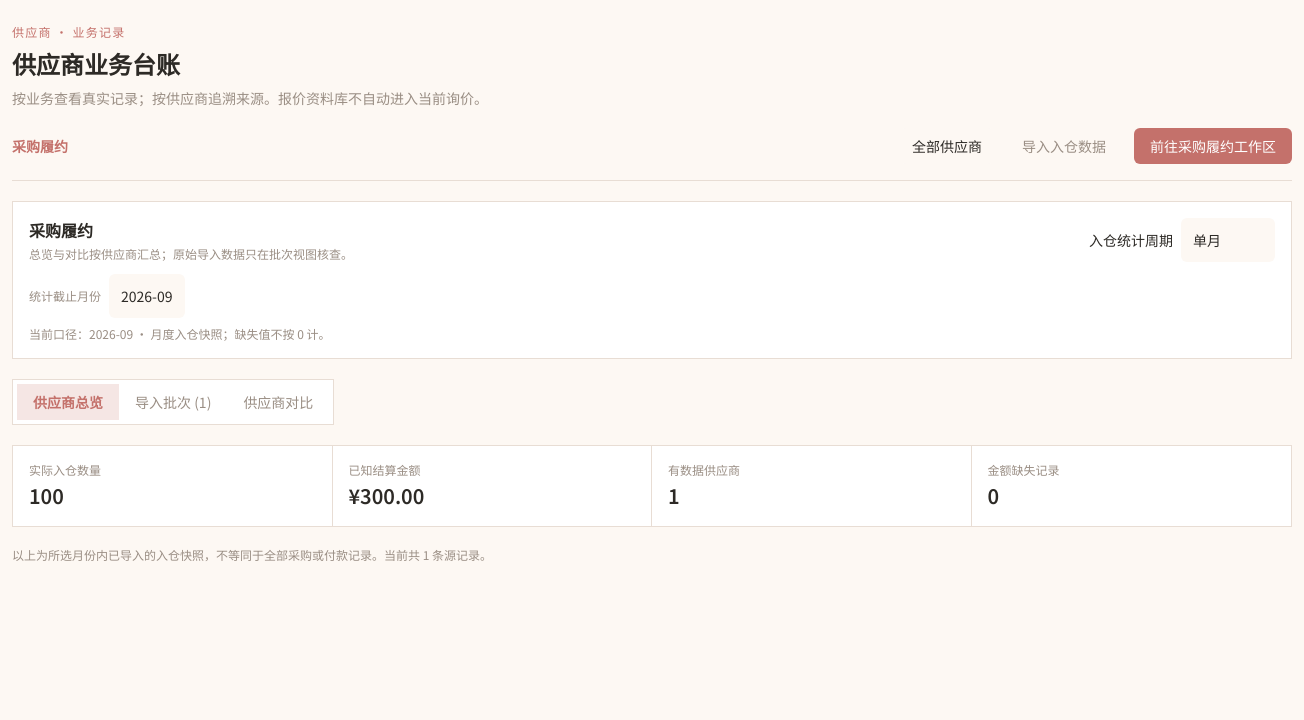
Scenario: gives purchase fulfillment compact overview, batch, and supplier comparison views with a month selector
Expected: the tab "供应商总览" is shown, [17,384,119,420]
Expected: the tab "导入批次 (1)" is shown, [119,384,227,420]
Click the tab "供应商对比".
click(278, 402)  # box [227,384,329,420]
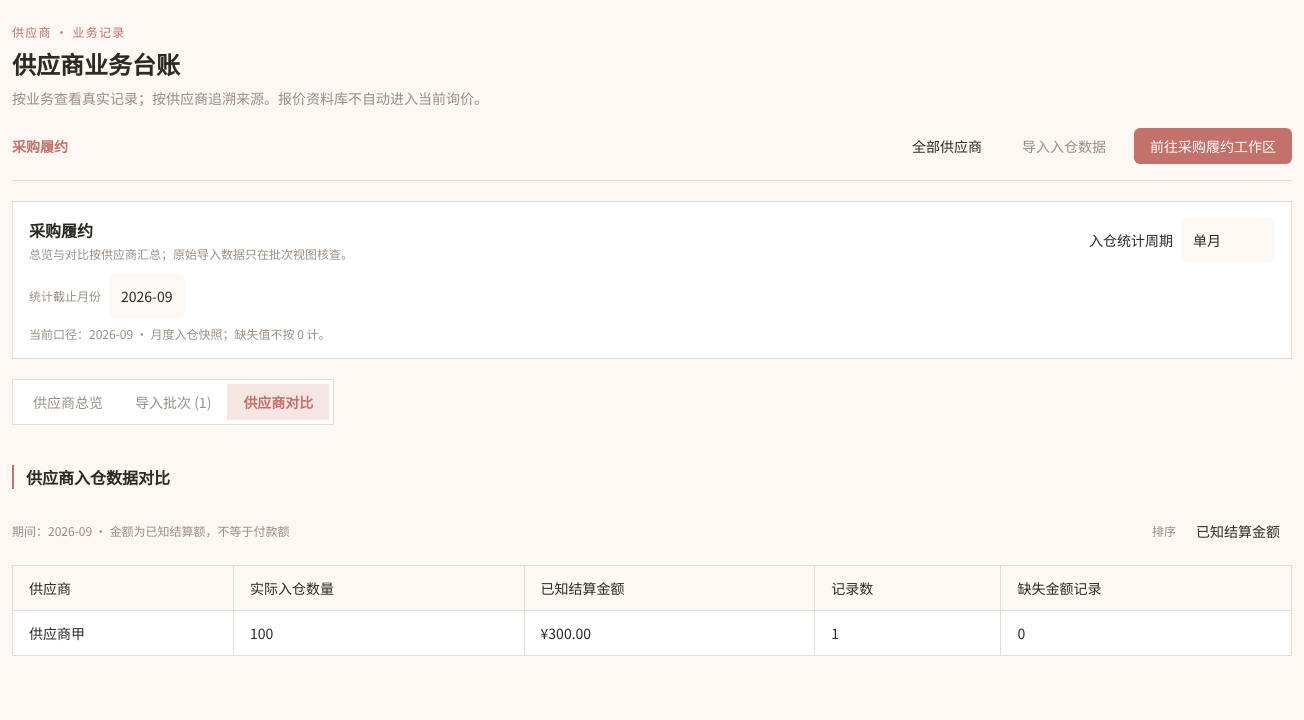
Expected: the table named "供应商入仓对比" is shown, [12,565,1292,656]
